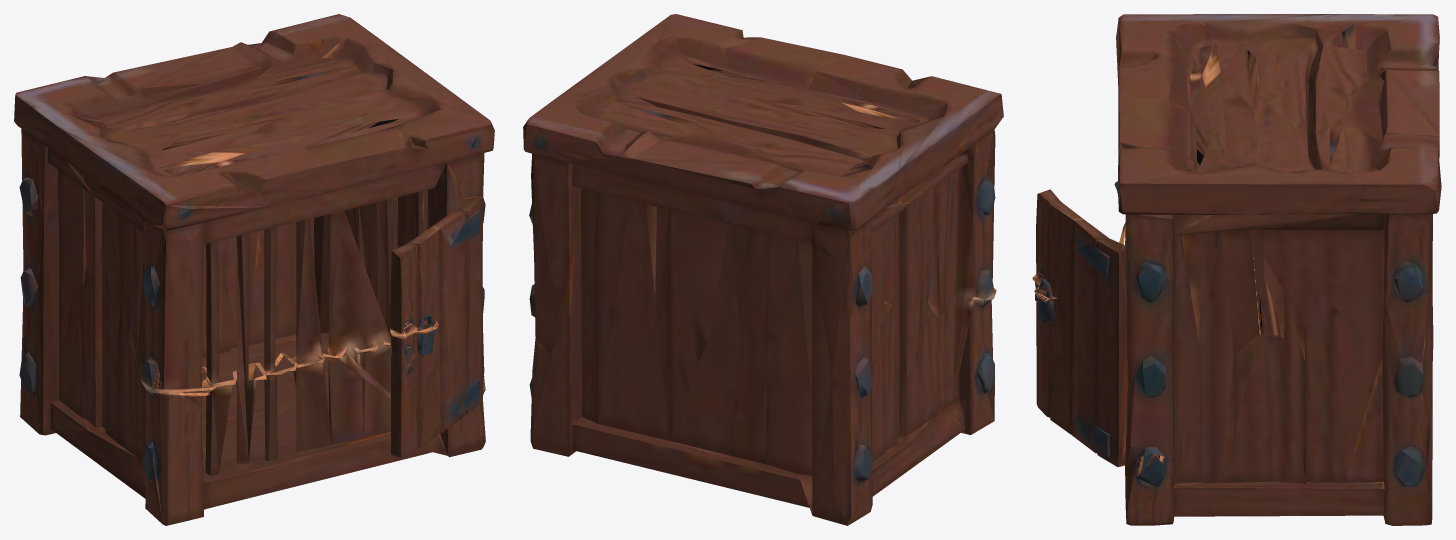
Rendered from prisoner-cage.low.glb.
3 views of the same model, side by side, from view 1: azimuth 30°, elevation 25°; view 2: azimuth 150°, elevation 25°; view 3: azimuth 270°, elevation 25° (orthographic). The views are drawn at different scales.
Visible parts, largest first — view 1: output_unwrapped; view 2: output_unwrapped; view 3: output_unwrapped.
Boxes of the visible parts, x1,y1,x2,y2 form: output_unwrapped: [14, 14, 494, 525]; output_unwrapped: [523, 14, 1003, 525]; output_unwrapped: [1032, 14, 1441, 525].
Size of the model in its own units: 1.89 by 1.77 by 1.89.
Materials: 1 (1 with a texture image).
